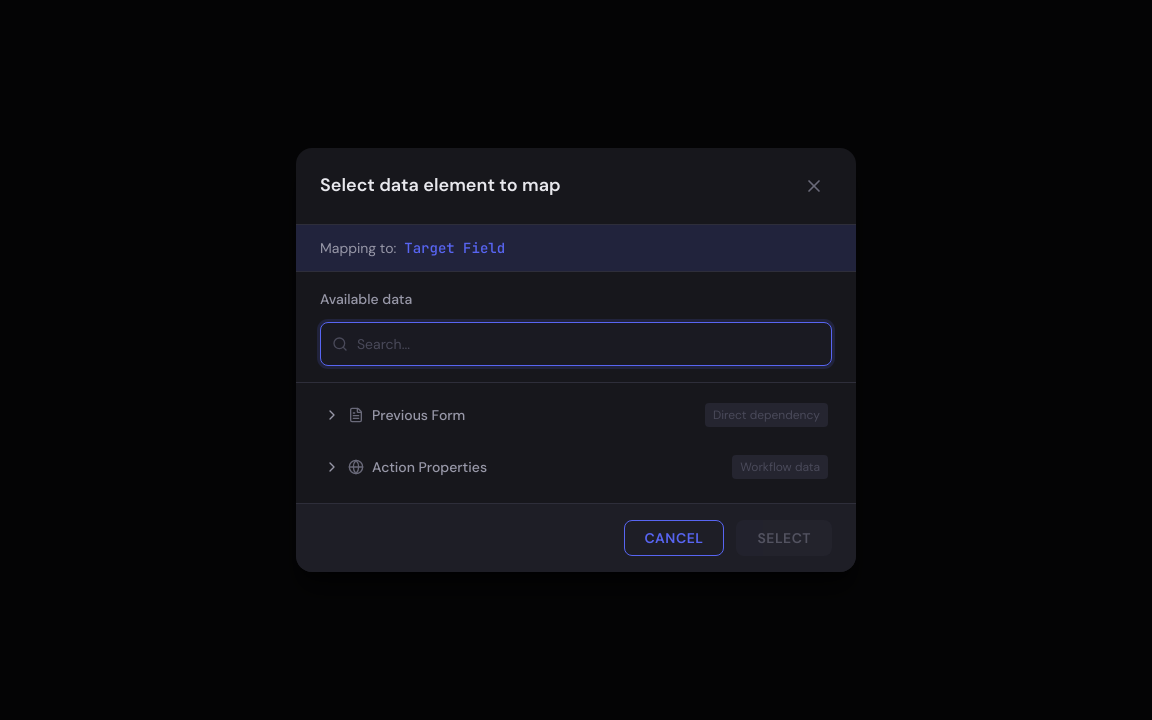
it: DataSourceModal › group expansion › collapses expanded group when clicked again
Click the button "Previous Form Direct dependency" at (419, 415), box [312,391,840,439]
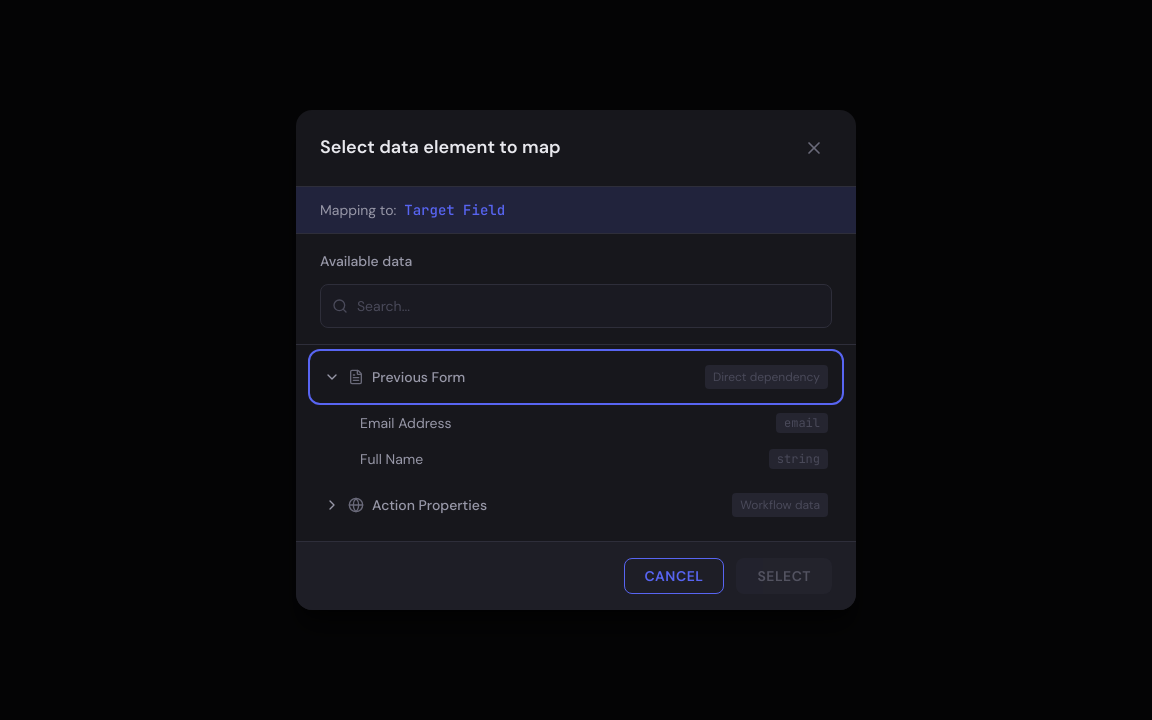
Check: the text "Email Address" is shown, box [360,414,452,432]
Click the button "Previous Form Direct dependency" at (419, 377), box [312,353,840,401]
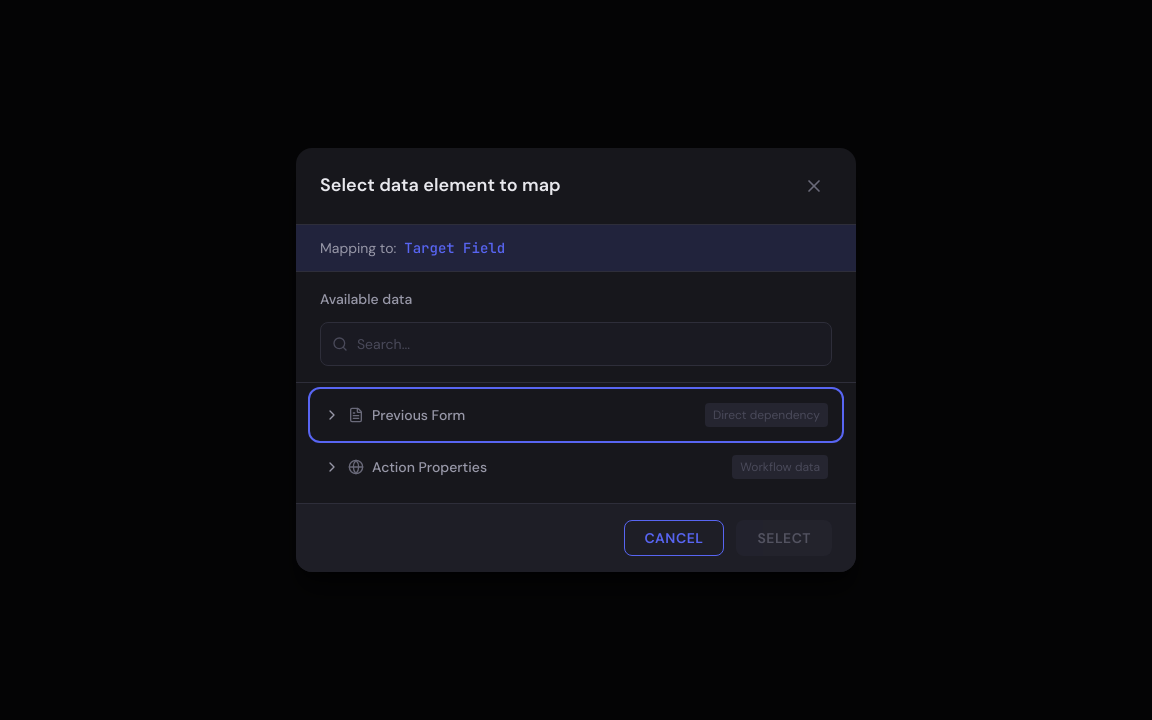
Check: the button "Email Address" is gone
